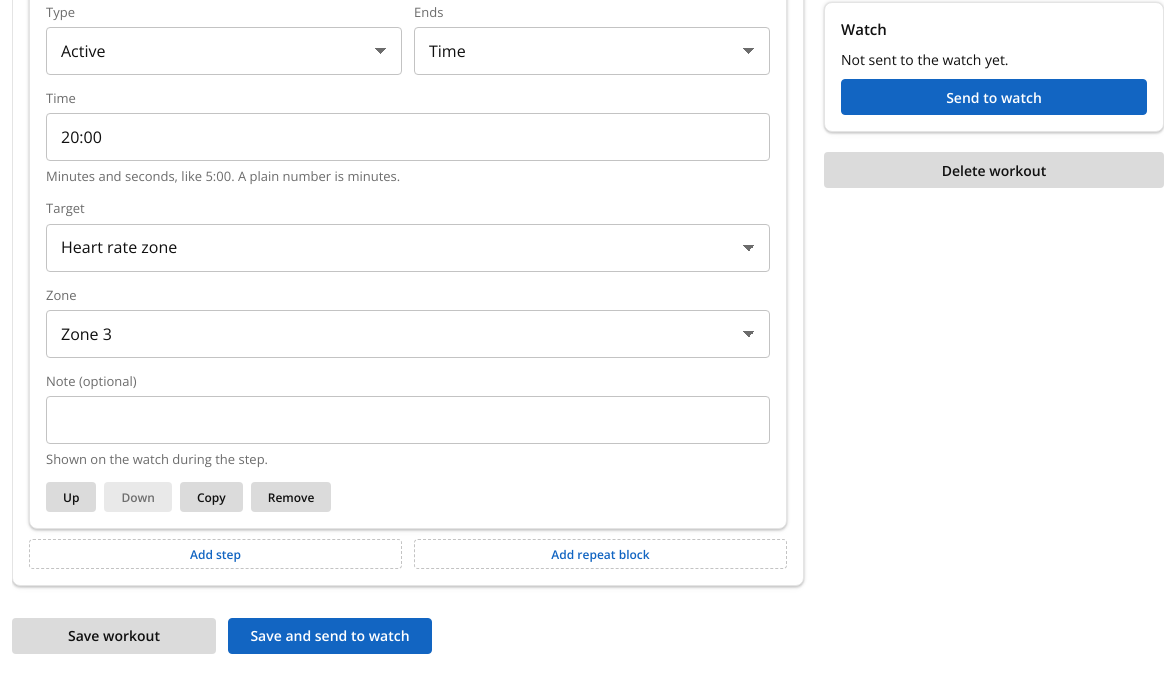
Scenario: a saved workout › keeps the saved workout when it could not be queued, and says so
(page scrolled)
Step 1. Click the button "Save and send to watch" → x=330, y=636, box x1=228 y1=618 x2=432 y2=654
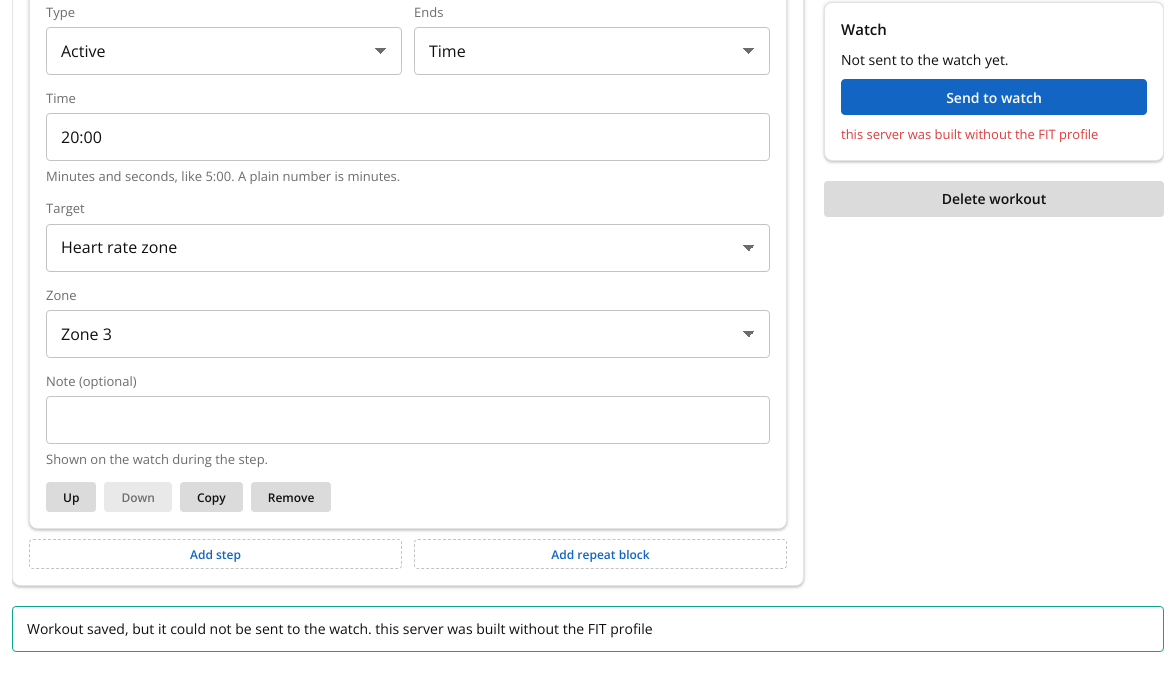
Check: the text "Workout saved, but it could not be sent to the watch. this server was built without the FIT profile" is shown, box x1=27 y1=619 x2=652 y2=638
